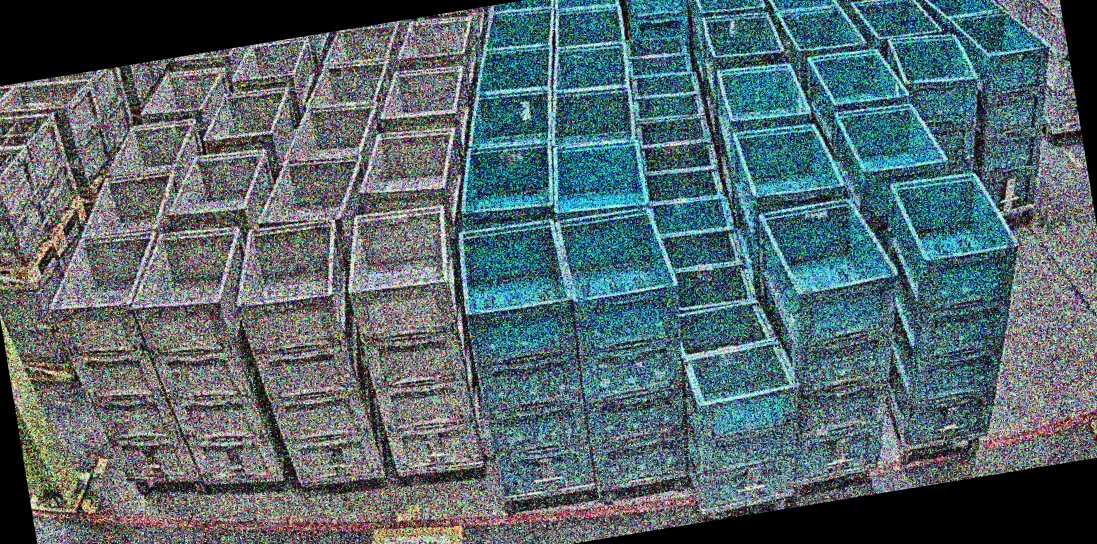4G: (119, 220, 288, 502), (222, 212, 387, 497), (39, 226, 203, 505), (334, 198, 487, 484)
B4: (859, 164, 1052, 453), (748, 188, 932, 489), (549, 202, 711, 494), (450, 216, 600, 507), (882, 23, 996, 189)
B8: (666, 292, 820, 512)
